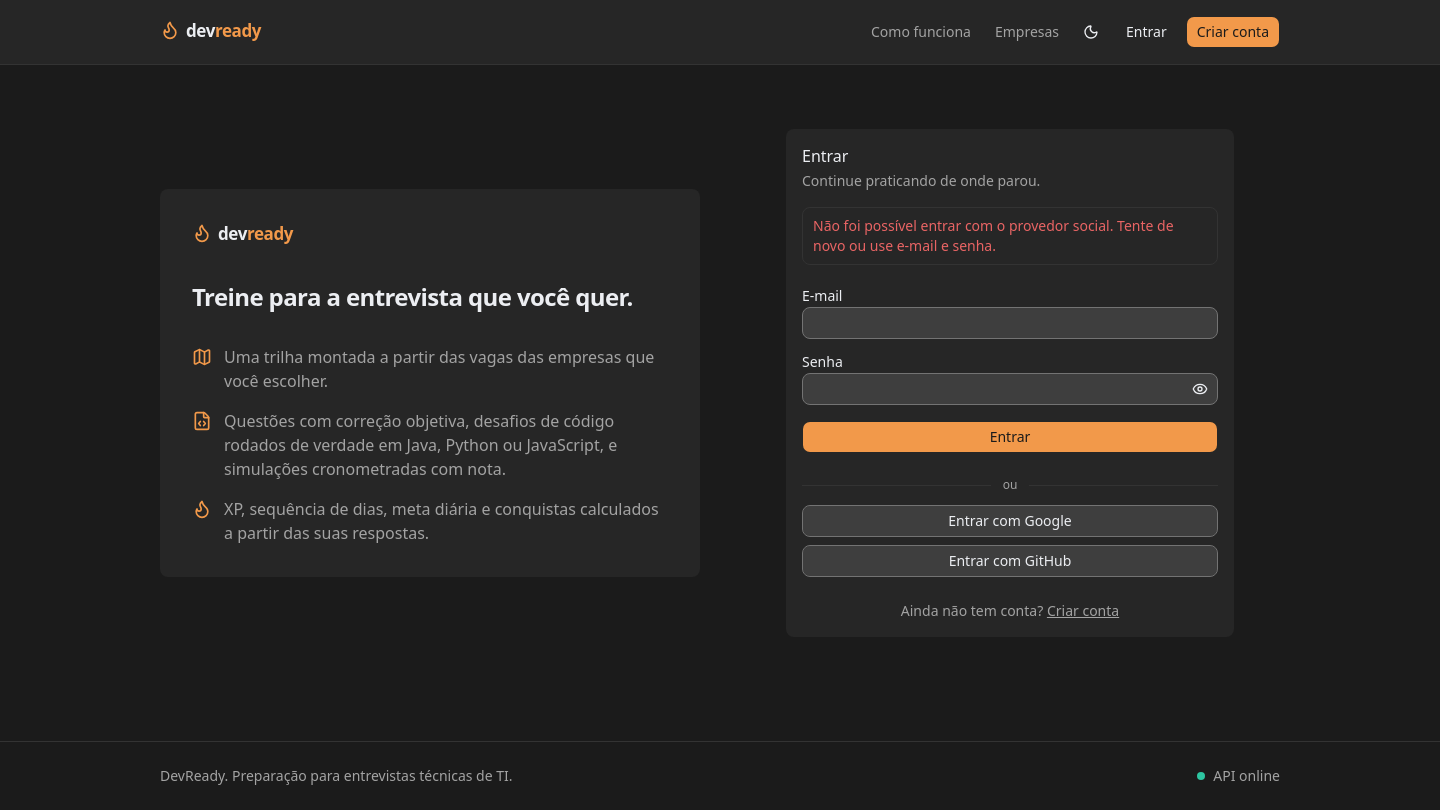
Test case: LoginPage › valida antes de enviar e mostra o erro do provedor social vindo da URL
Expected: the message shows "provedor social", [813,216,1174,255]
Click the button "Entrar": (1010, 437) [802,421,1218,453]
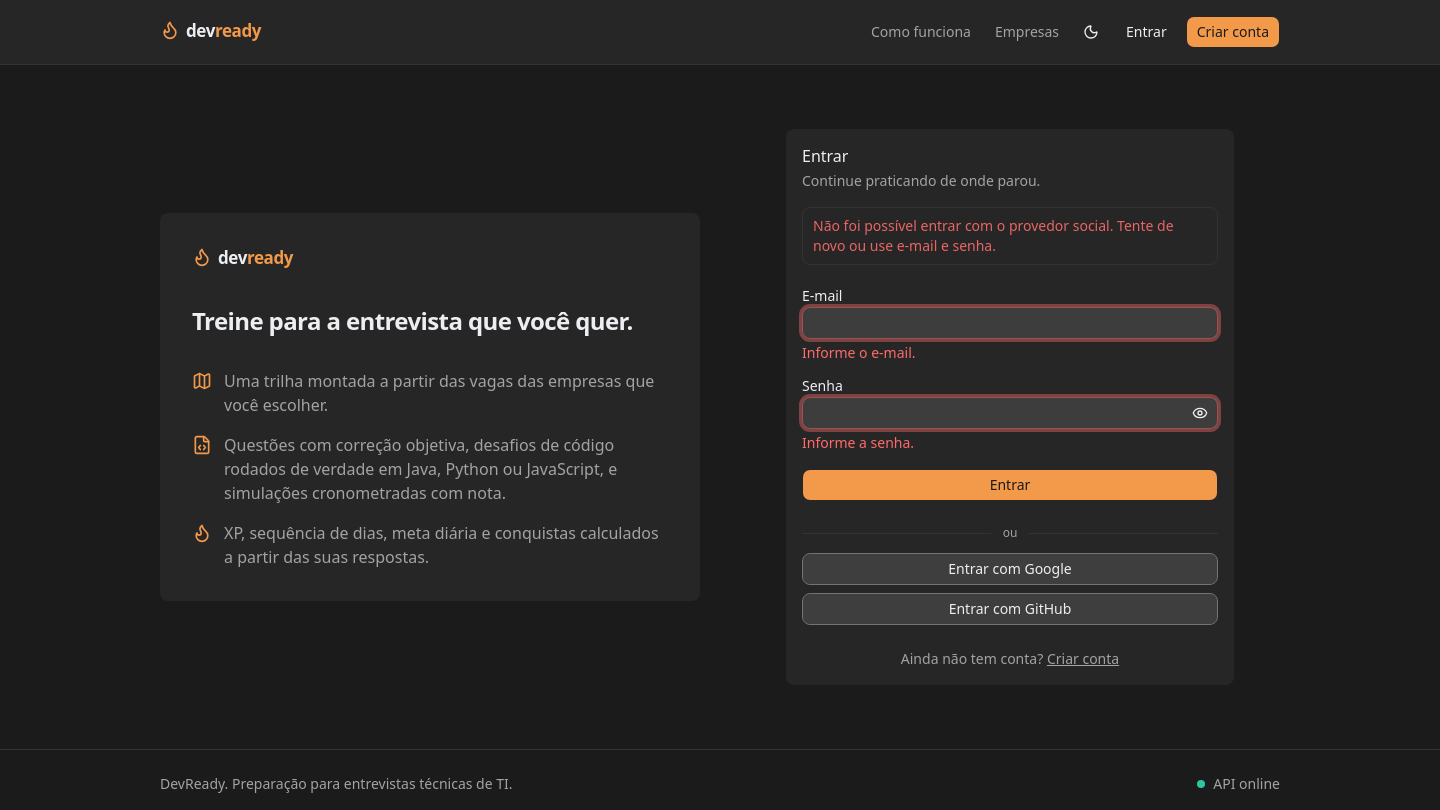
Result: the text "Informe o e-mail." is shown at [802,343,916,362]
